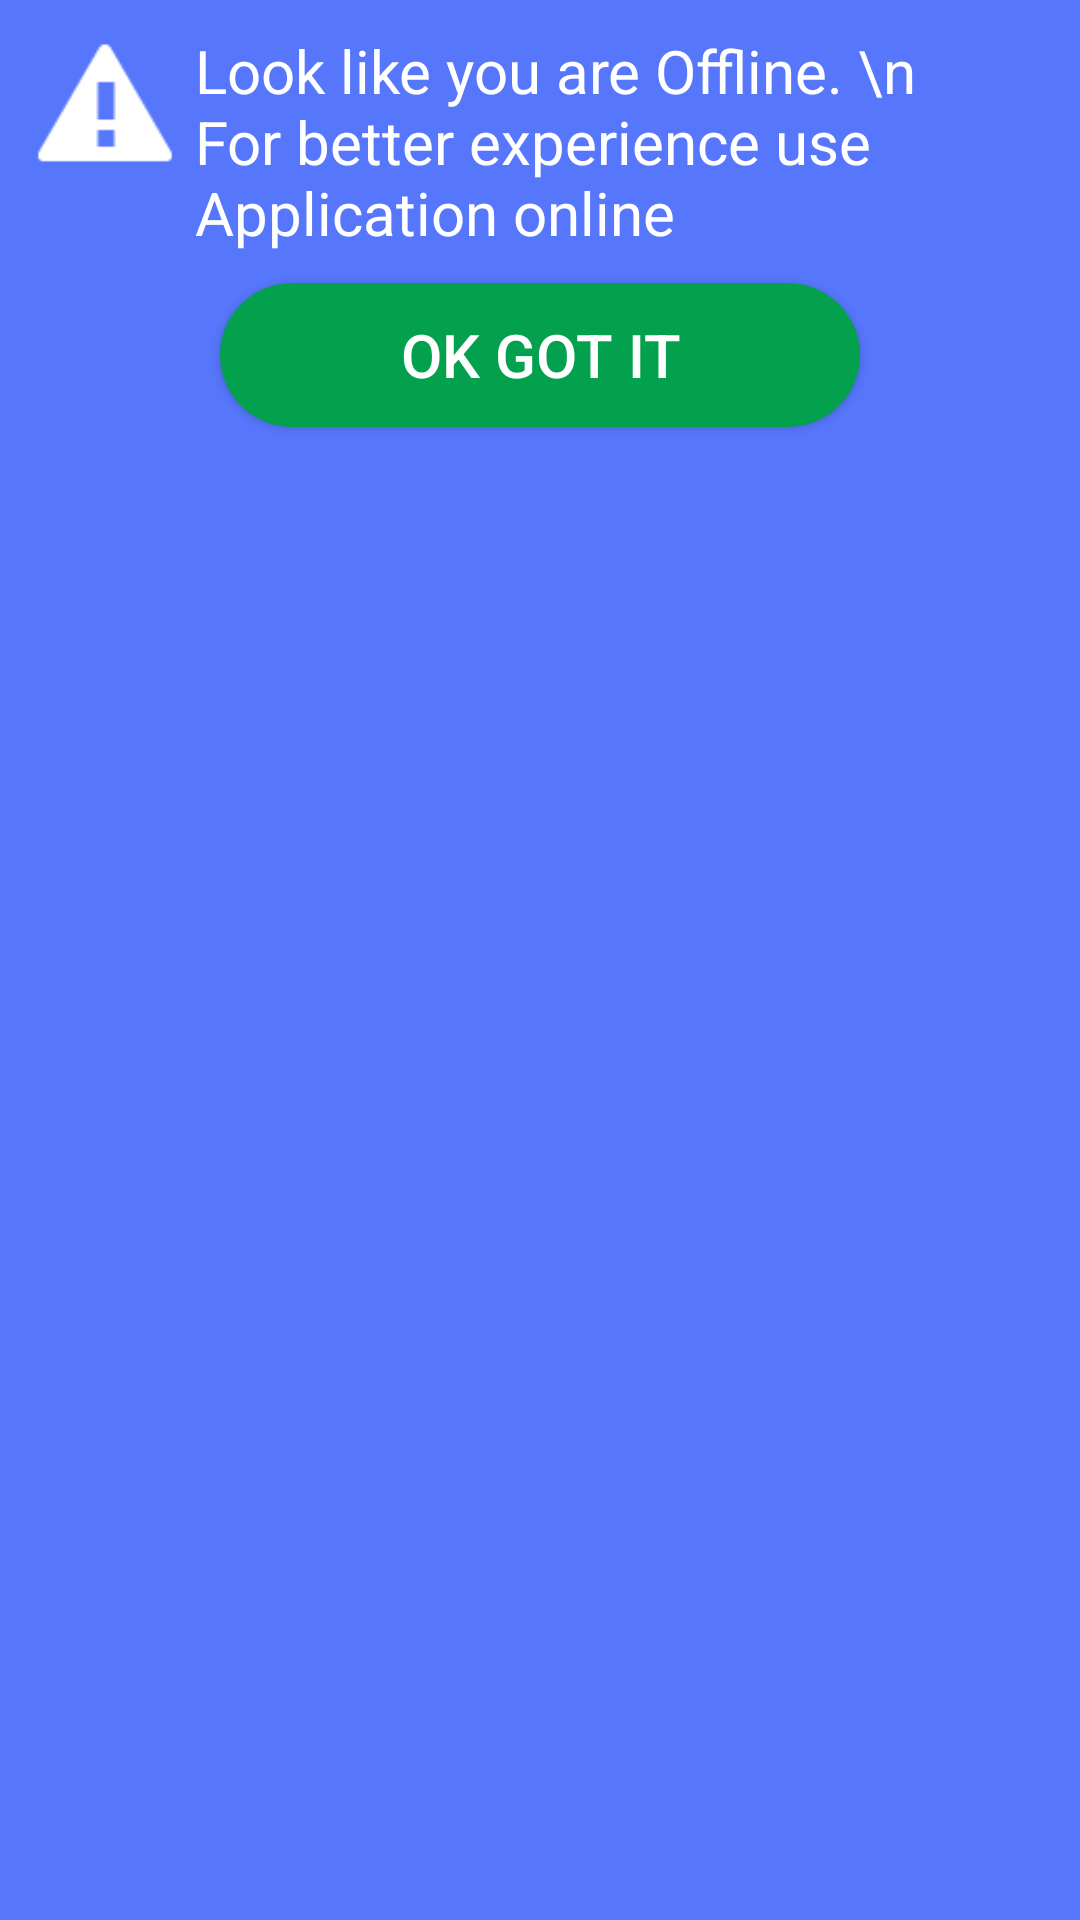

Named icons in this screenshot (1080*1920) and their centers, point (x, y):
error: point (105, 103)
